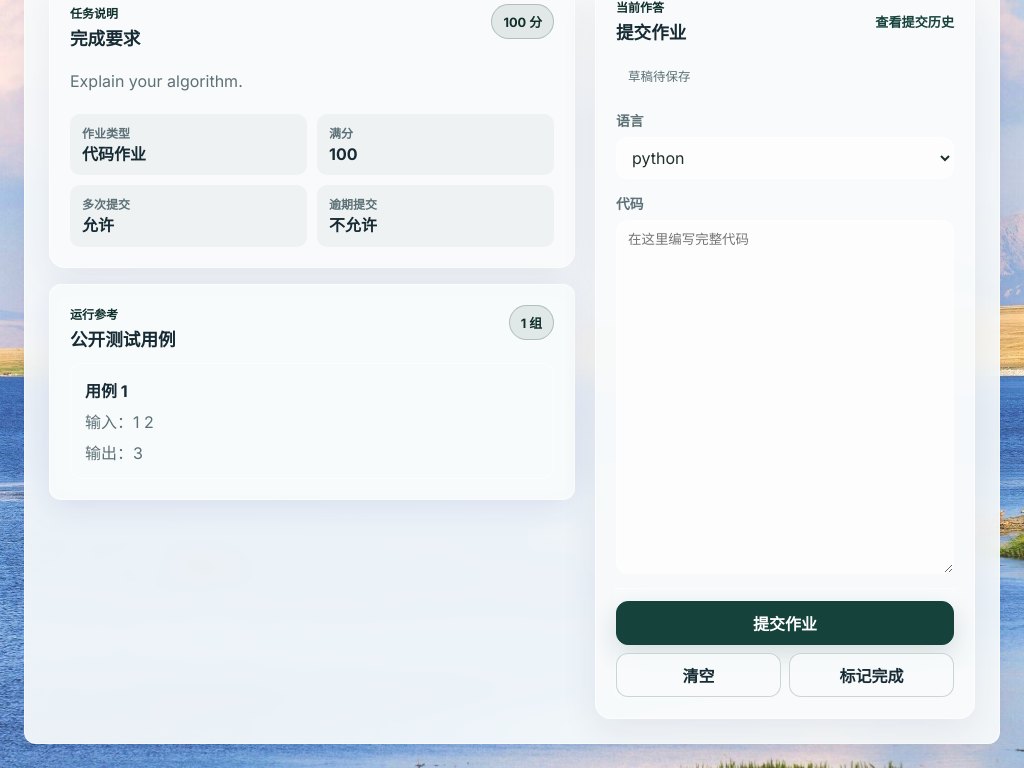
Test: HomeworkStudentView › loads and displays the evaluation result after submitting code homework
(page scrolled)
Type "print(input())" into the text box named "codeText" at {"x": 785, "y": 397}, box [616, 220, 954, 574]
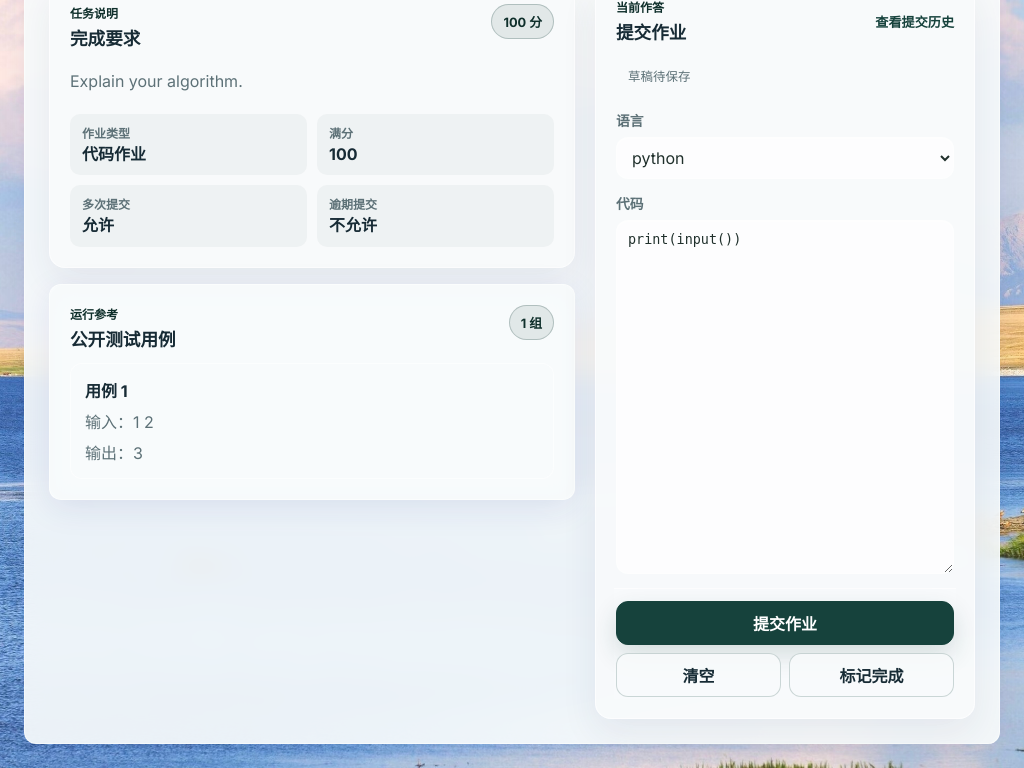
Submit the form, box [616, 110, 954, 699]
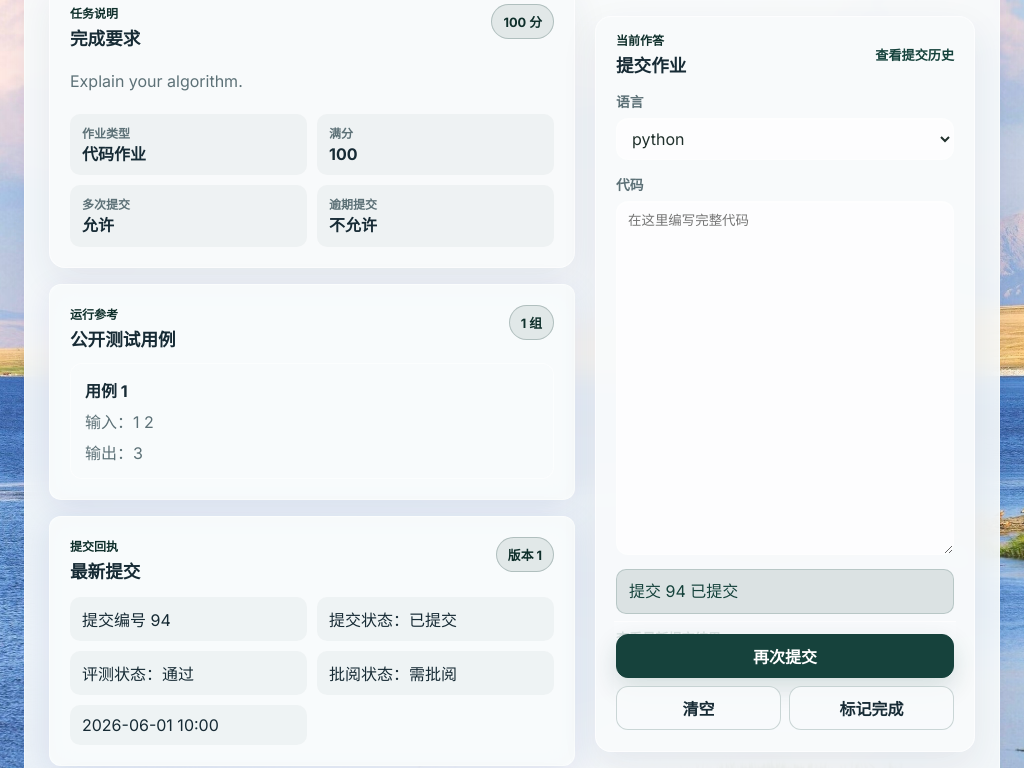
Check: the text "100" is shown, box [503, 15, 542, 30]
Check: the text "通过" is shown, box [82, 664, 194, 684]
